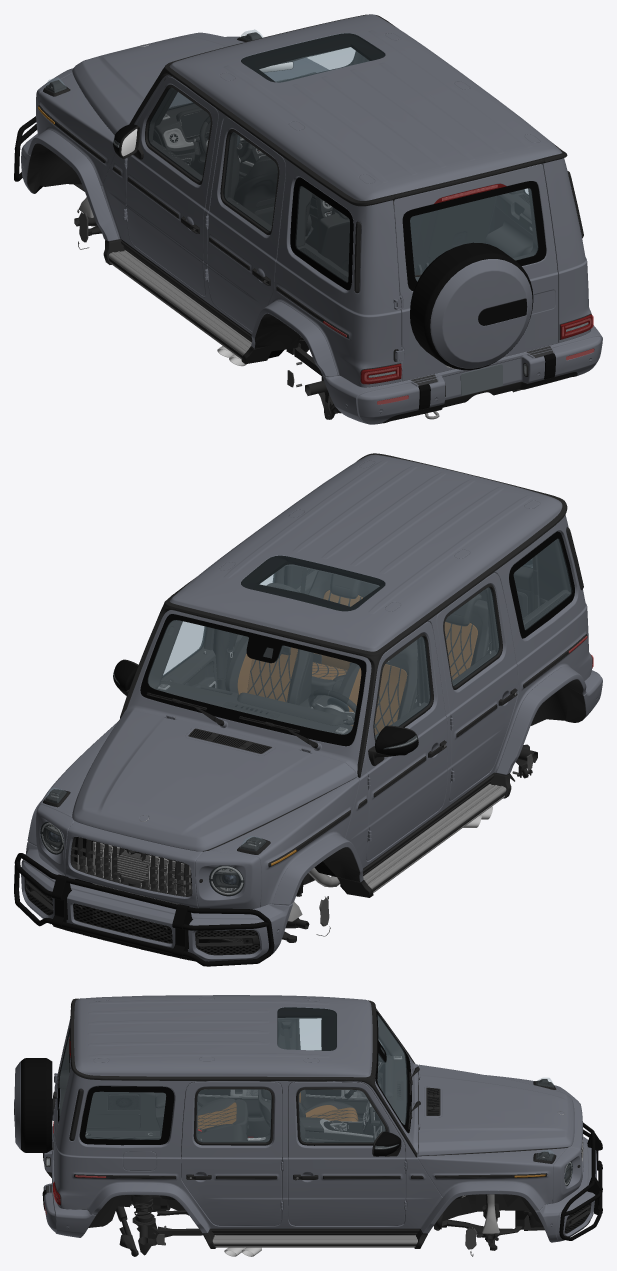
3 views of the same model, one above another, from view 1: azimuth 30°, elevation 25°; view 2: azimuth 150°, elevation 25°; view 3: azimuth 270°, elevation 25° (orthographic). The views are drawn at different scales.
Parts seen in each view (by area): view 1: Body; view 2: Body, Steering; view 3: Body.
Part boxes in pixels (<box>): Body: <box>14,14,602,424</box>; Body: <box>14,453,602,966</box>; Steering: <box>308,689,356,725</box>; Body: <box>14,995,602,1256</box>.
Size of the model in its own units: 2.18 by 1.79 by 4.91.
32 materials, 20 textured.
